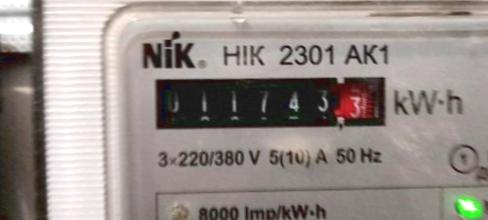0: (164, 86, 179, 114)
1: (225, 84, 238, 112), (196, 85, 207, 112)
3: (314, 85, 329, 112), (346, 93, 360, 118)
4: (284, 86, 299, 113)
7: (254, 83, 270, 112)
screen: (142, 61, 397, 141)
